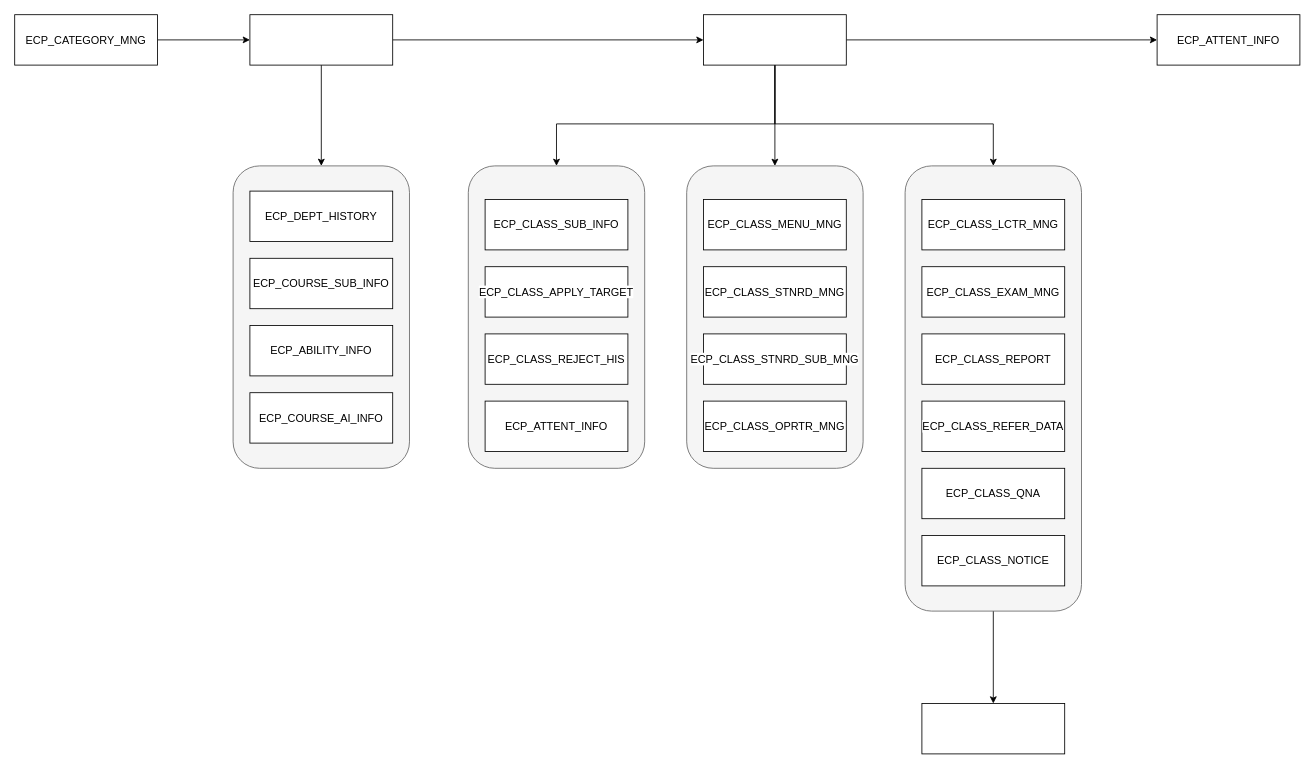
The diagram is 1315 pixels wide and 769 high, and some of its shapes have lost their labels. The shapes that lost their labels are listed below. From the top down, each one's centre as x and y in pixels, then its label:
point (321, 39): ECP_COURSE_INFO
point (774, 39): ECP_CLASS_INFO
point (993, 728): ECP_CLASS_COMMENT
